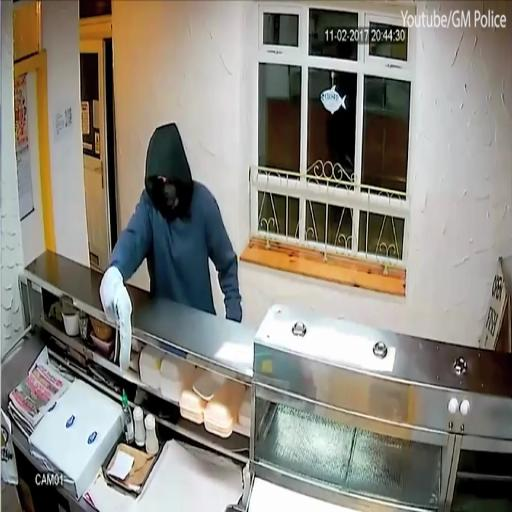Guns: (102, 270, 134, 334)
